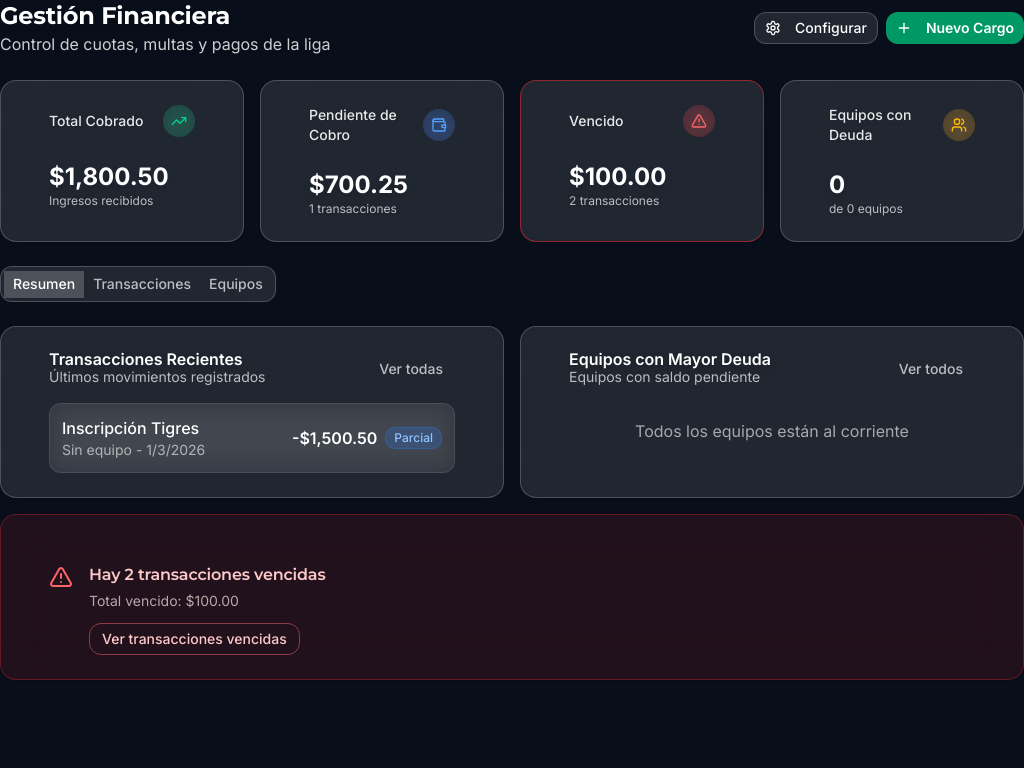
Test: Finance parity: payment dialog › registers a partial payment: toast says partial and the body carries the typed amount
This screenshot has width=1024, height=768.
Click the tab "Transacciones" at (142, 284), box [84,270,200,298]
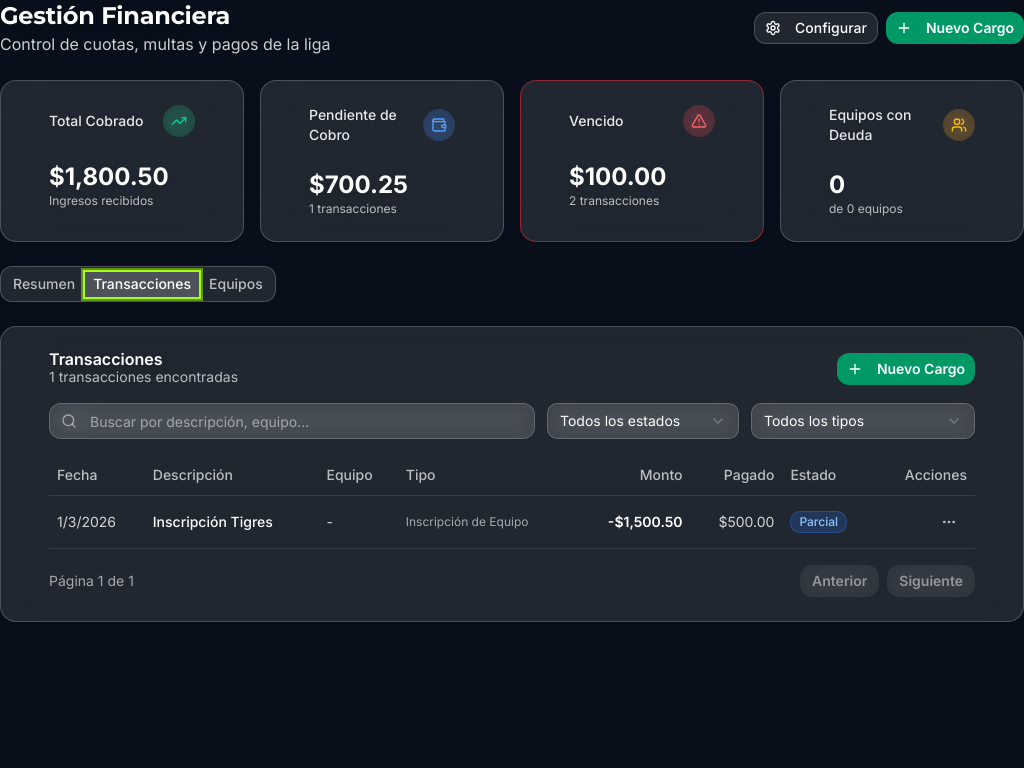
Click the button named "Acciones de Inscripción Tigres" at (949, 522), box [931,504,967,540]
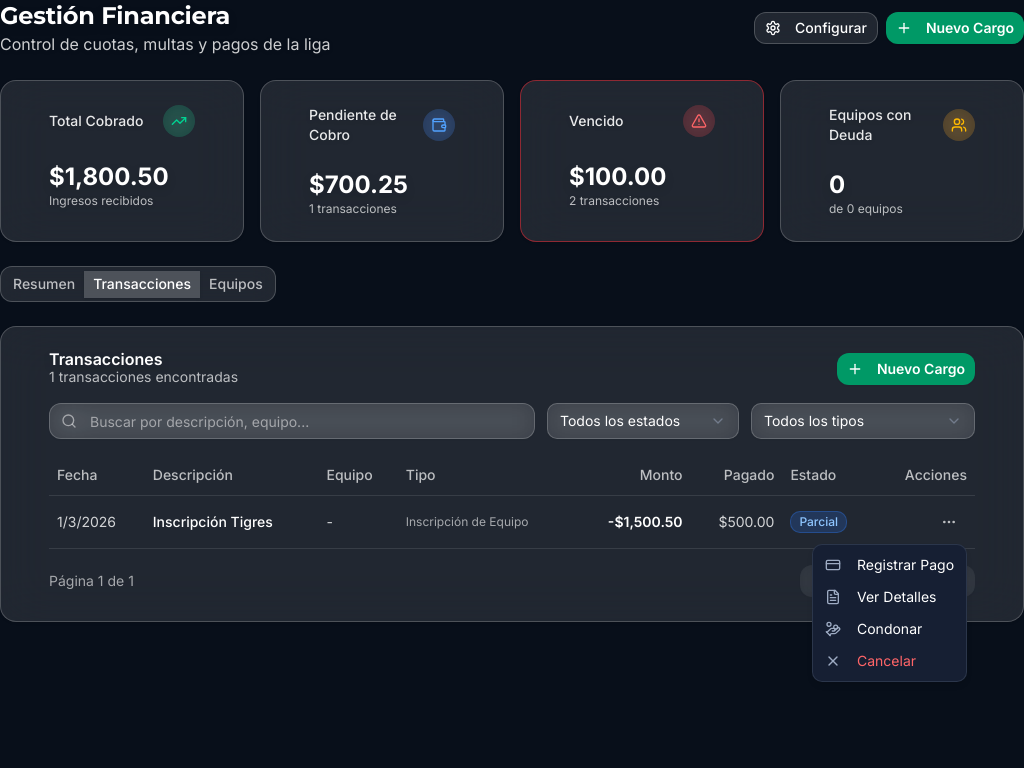
Click the menu item "Registrar Pago" at (890, 564), box [825,556,954,573]
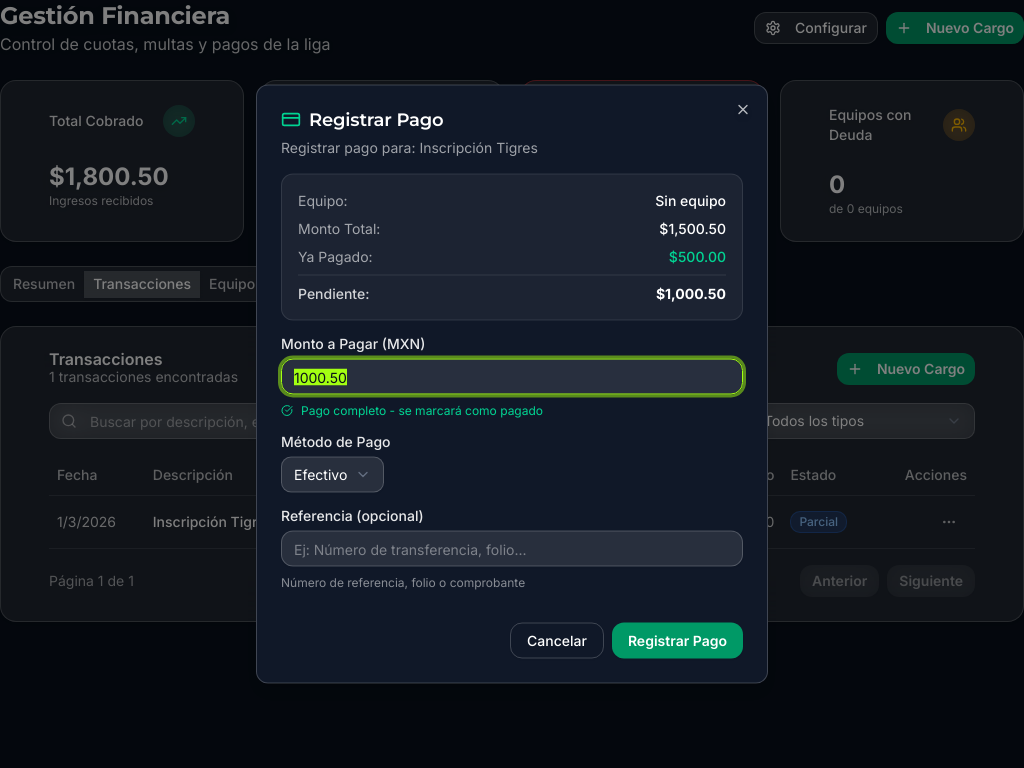
Clear the field labelled "Monto a Pagar (MXN)" at (512, 376), box [281,358,743,394]
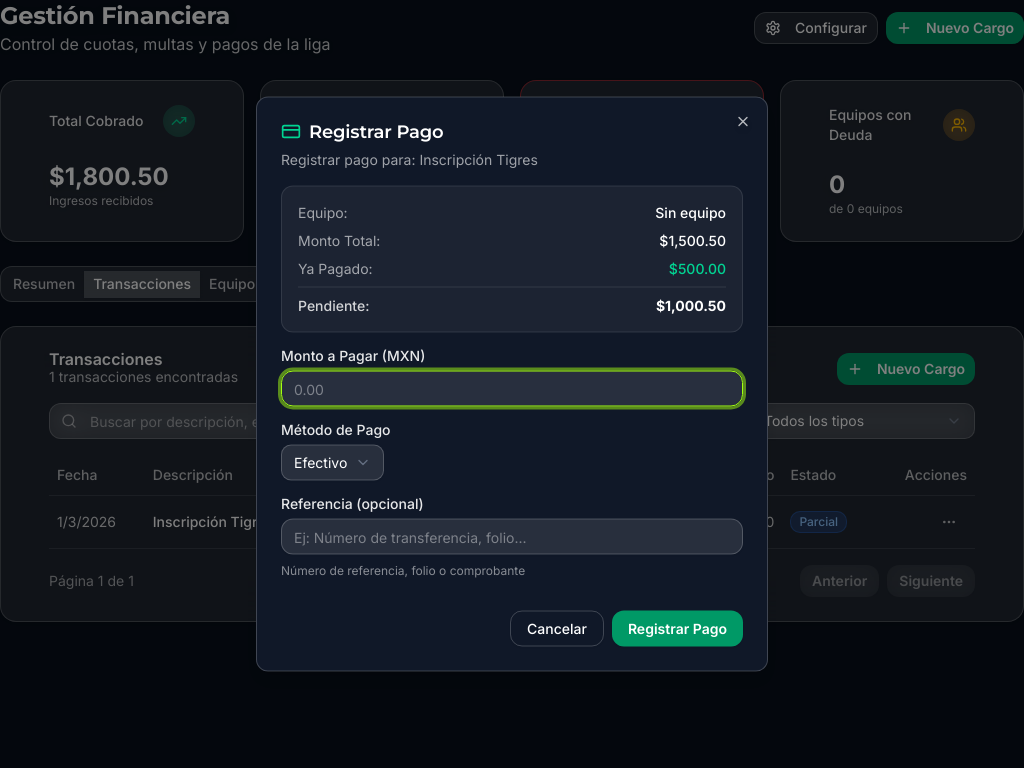
Type "400" into the field labelled "Monto a Pagar (MXN)" at (512, 388), box [281,370,743,406]
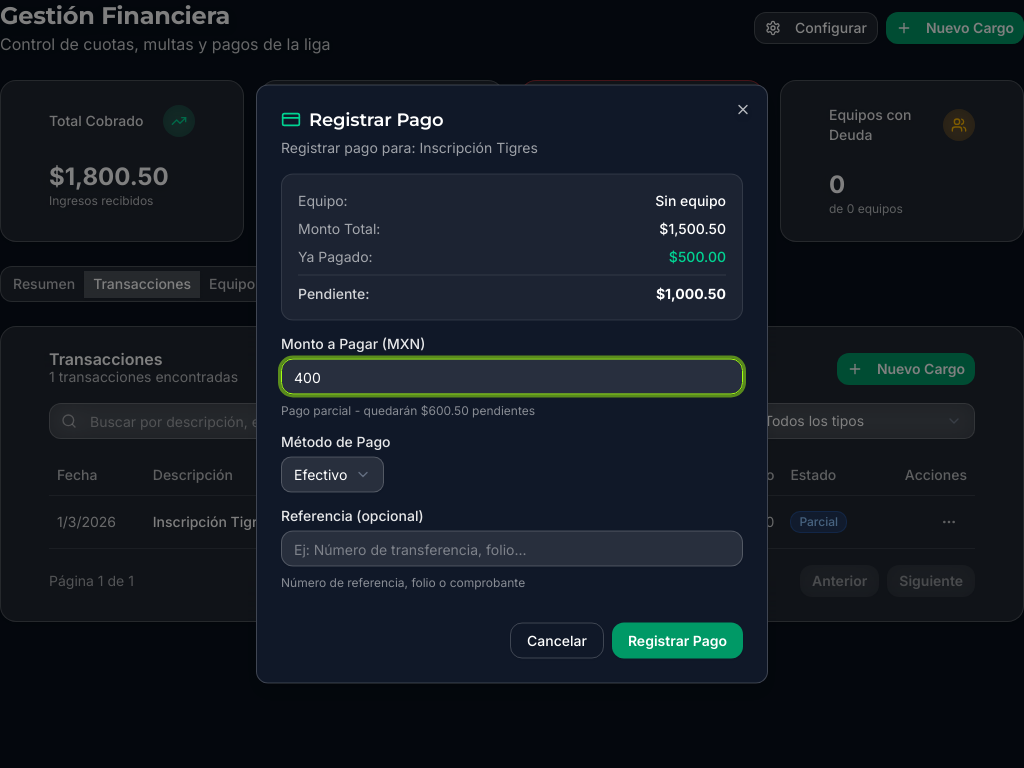
Click the button "Registrar Pago" at (677, 640), box [612,622,743,658]
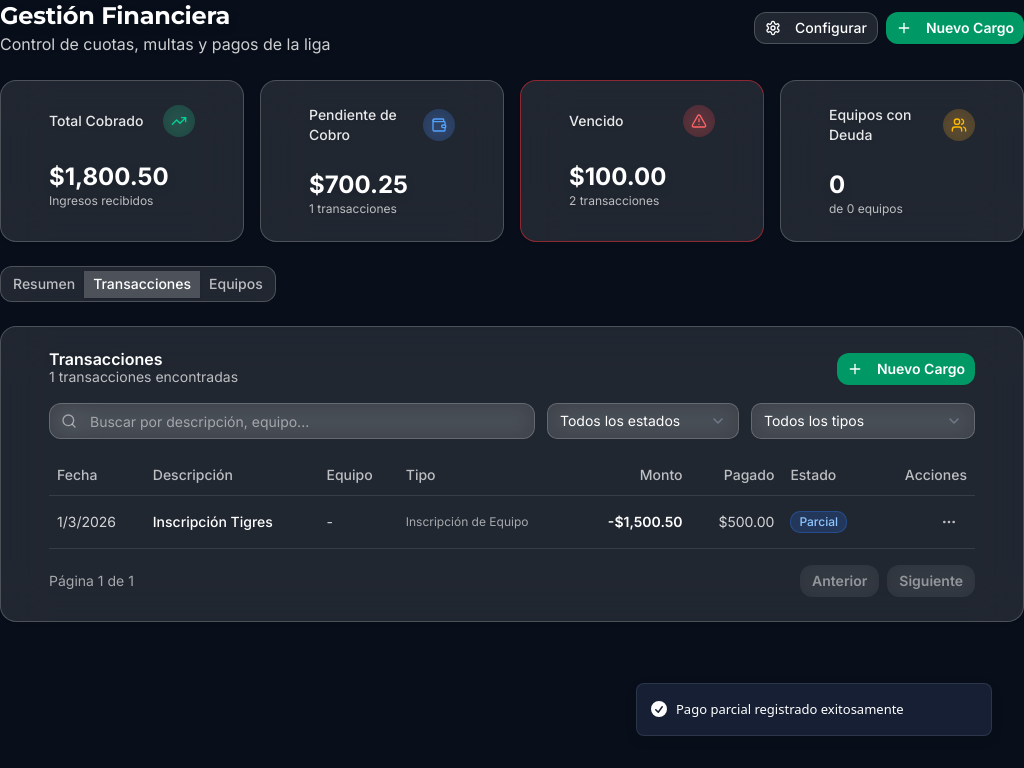
Expected: the text "Pago parcial registrado exitosamente" is shown, [676,700,904,719]
